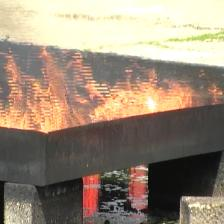fire: (0, 47, 224, 132)
